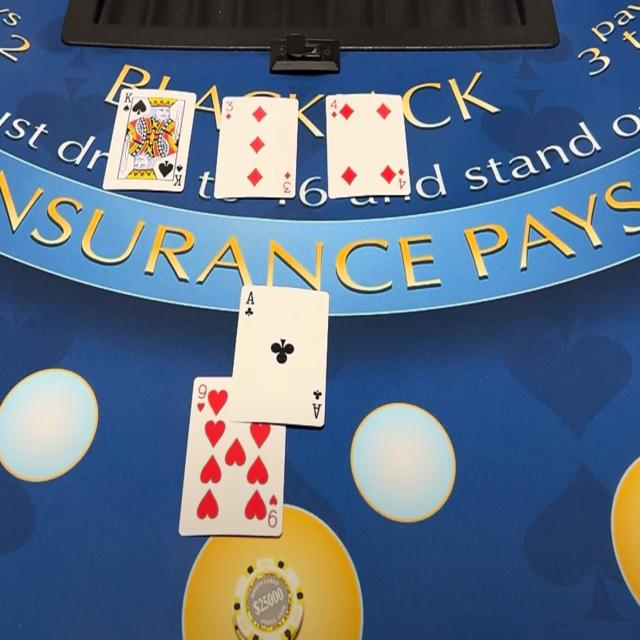3: (224, 99, 234, 112)
4: (328, 96, 338, 111)
9: (194, 379, 208, 402)
A: (244, 290, 257, 307)
K: (123, 90, 133, 104)
